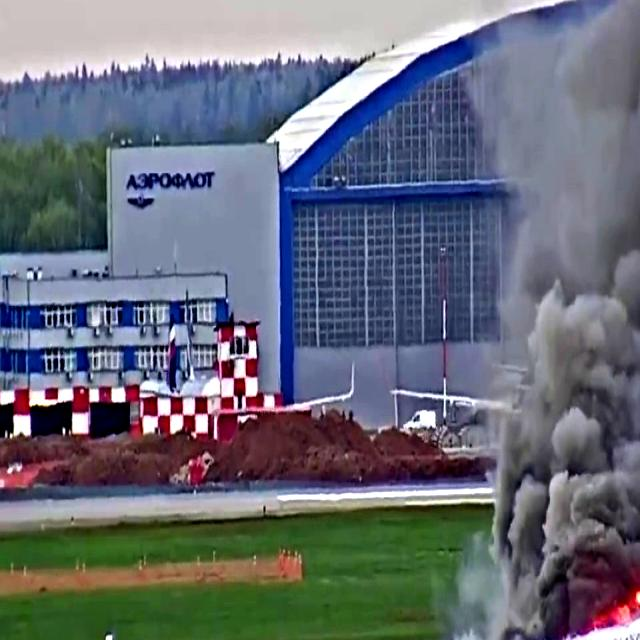smoke: (536, 0, 640, 592)
